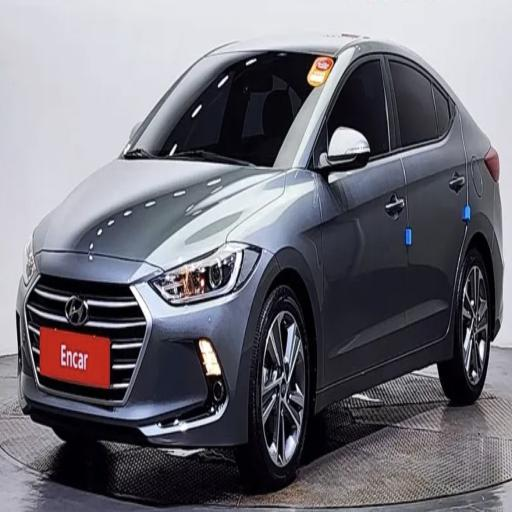normal: (28, 16, 507, 472)
